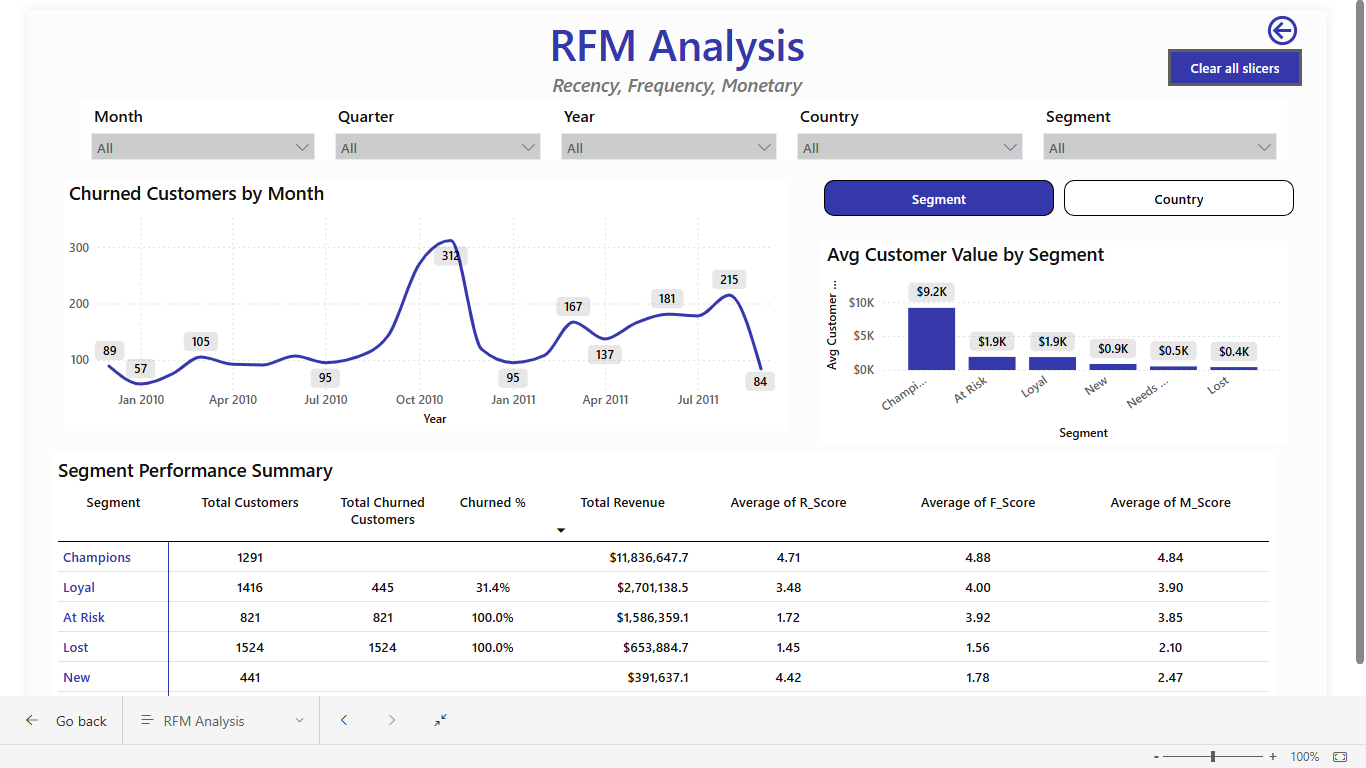

What the dashboard file says about the page in this screenshot:
{"tool":"powerbi","page":{"name":"RFM Analysis","canvas":[1300,720],"ordinal":2},"visuals":[{"type":"slicer","fields":{"Values":["Sheet1.InvoiceDate.Variation.Date Hierarchy.Month"]},"box":[53.8,90,243.8,60],"z":0},{"type":"pivotTable","title":"Country Performance Summary","fields":{"Values":["Measures (2).Total Customers","Measures (2).Count of Customer_ID for True","Measures (2).Churned %","Measures (2).Total Revenue","Avg(Sheet1.R_Score)","Avg(Sheet1.F_Score)","Avg(Sheet1.M_Score)"],"Rows":["Sheet1.Country"]},"box":[38,428.4,1218.6,284.3],"z":0,"group":"g1"},{"type":"slicer","fields":{"Values":["Sheet1.Country"]},"box":[760,90,246.2,60],"z":1000},{"type":"columnChart","title":"Top 5 Countries by Avg Customer Value ","fields":{"Y":["Measures (2).Avg Customer Value"],"Category":["Sheet1.Country"]},"box":[780.6,206.9,478.6,210],"z":1000,"group":"g1"},{"type":"slicer","fields":{"Values":["Sheet1.InvoiceDate.Variation.Date Hierarchy.Year"]},"box":[523.8,90,236.2,60],"z":2000},{"type":"slicer","fields":{"Values":["Sheet1.InvoiceDate.Variation.Date Hierarchy.Quarter"]},"box":[297.5,90,226.2,60],"z":3000},{"type":"slicer","fields":{"Values":["Sheet1.Segment"]},"box":[1006.2,90,253.8,60],"z":4000},{"type":"actionButton","box":[1141.2,38.8,133.8,37.5],"z":5000},{"type":"actionButton","box":[1236.2,0,38.8,40],"z":6000},{"type":"lineChart","title":"Churned Customers by Month","fields":{"Y":["Measures (2).Total Customers"],"Category":["Sheet1.ChurnedLastPurchaseDate.Variation.Date Hierarchy.Year","Sheet1.ChurnedLastPurchaseDate.Variation.Date Hierarchy.Month"]},"box":[37.1,170,722.9,251.4],"z":7000},{"type":"textbox","box":[353.3,0,593.3,98.3],"z":8000},{"type":"bookmarkNavigator","box":[797.1,170,470,35.7],"z":9000},{"type":"group","id":"g1","title":"Country","box":[38,206.9,1221.2,505.8],"z":11000}]}

Visuals, with their boxes on the page's 1300x720 design canvas (x1, y1, x2, y2). These are canvas units, not pixel positions in the 1366x768 screenshot, which may show the page scaled, cropped or inside an application window:
slicer - Sheet1.InvoiceDate.Variation.Date Hierarchy.Month: pyautogui.locateOnScreen(54, 90, 298, 150)
"Country Performance Summary" pivotTable: pyautogui.locateOnScreen(38, 428, 1257, 713)
slicer - Sheet1.Country: pyautogui.locateOnScreen(760, 90, 1006, 150)
"Top 5 Countries by Avg Customer Value " columnChart: pyautogui.locateOnScreen(781, 207, 1259, 417)
slicer - Sheet1.InvoiceDate.Variation.Date Hierarchy.Year: pyautogui.locateOnScreen(524, 90, 760, 150)
slicer - Sheet1.InvoiceDate.Variation.Date Hierarchy.Quarter: pyautogui.locateOnScreen(298, 90, 524, 150)
slicer - Sheet1.Segment: pyautogui.locateOnScreen(1006, 90, 1260, 150)
actionButton: pyautogui.locateOnScreen(1141, 39, 1275, 76)
actionButton: pyautogui.locateOnScreen(1236, 0, 1275, 40)
"Churned Customers by Month" lineChart: pyautogui.locateOnScreen(37, 170, 760, 421)
textbox: pyautogui.locateOnScreen(353, 0, 947, 98)
bookmarkNavigator: pyautogui.locateOnScreen(797, 170, 1267, 206)
"Country" group: pyautogui.locateOnScreen(38, 207, 1259, 713)
